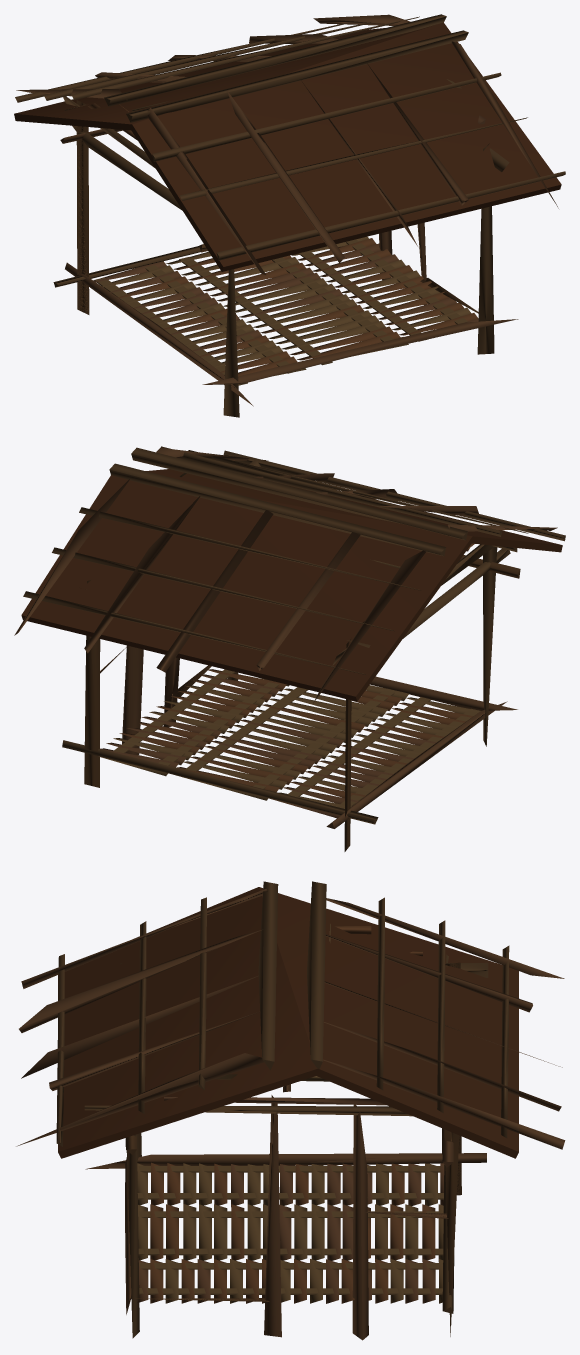
File: choi-go.glb
3 views of the same model, one above another, from view 1: azimuth 30°, elevation 25°; view 2: azimuth 150°, elevation 25°; view 3: azimuth 270°, elevation 25° (orthographic). The views are drawn at different scales.
Parts seen in each view (by area): view 1: Object_4; view 2: Object_4; view 3: Object_4.
Part boxes in pixels (x1,y1,x2,y2): Object_4: (14,14,565,417); Object_4: (14,446,565,851); Object_4: (16,881,565,1340).
Bounding box in the file's own units: 0.7868 × 0.5889 × 0.9883.
1 material, 1 textured.
